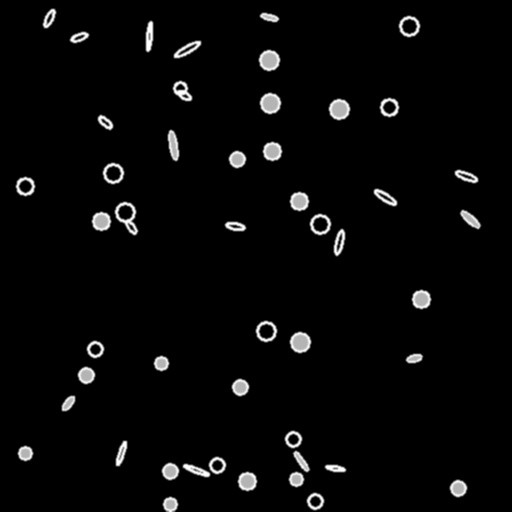pseudomonas: (173, 39, 201, 59), (373, 187, 397, 207), (459, 209, 481, 229), (292, 450, 310, 472), (182, 463, 210, 477), (454, 169, 478, 183), (333, 230, 345, 254), (60, 394, 76, 412), (115, 441, 127, 465), (168, 131, 178, 159), (42, 8, 56, 28), (145, 21, 153, 51), (97, 115, 113, 129), (124, 219, 138, 235), (70, 31, 88, 43), (225, 221, 245, 231), (176, 89, 192, 101), (406, 353, 422, 363), (325, 464, 345, 472), (260, 13, 278, 21)
synechocystis: (257, 322, 275, 340), (311, 215, 329, 233), (116, 203, 134, 221), (330, 100, 348, 118), (260, 51, 278, 69), (291, 333, 309, 351), (400, 17, 418, 35), (261, 94, 279, 112), (104, 164, 122, 182), (93, 213, 109, 229), (291, 193, 307, 209), (239, 473, 255, 489), (413, 291, 429, 307), (264, 143, 280, 159), (17, 178, 33, 194), (381, 99, 397, 115), (233, 380, 247, 394), (163, 464, 177, 478), (79, 368, 93, 382), (210, 458, 224, 472), (451, 481, 465, 495), (286, 432, 300, 446), (230, 152, 244, 166), (308, 494, 322, 508), (88, 342, 102, 356), (164, 498, 176, 510), (155, 357, 167, 369), (174, 82, 186, 94), (19, 447, 31, 459), (290, 473, 302, 485)
